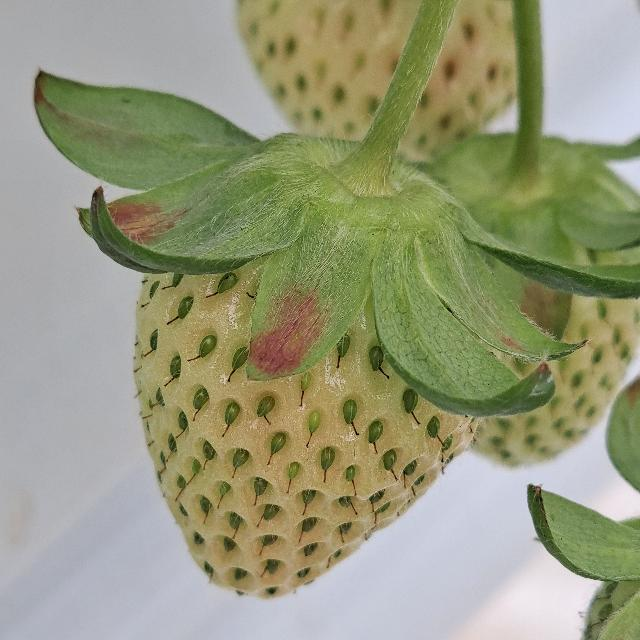Health_25: (132, 255, 480, 599)
